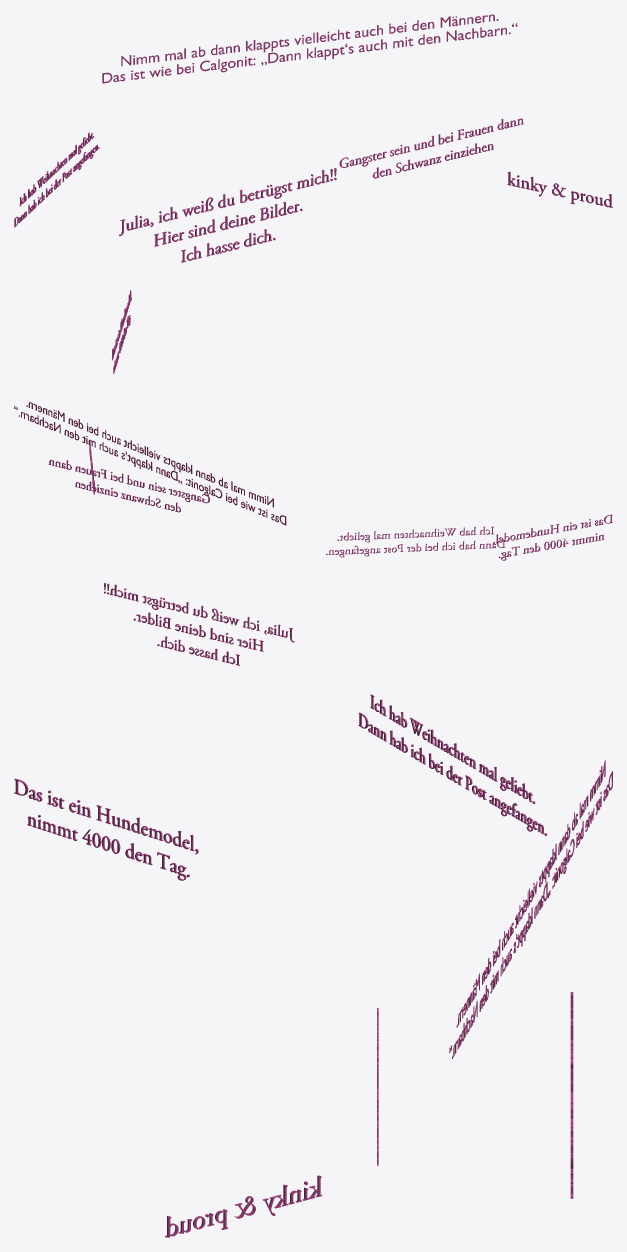
The model's file is Julia rosa.glb.
3 renders of one model, top to bottom at view 1: azimuth 30°, elevation 25°; view 2: azimuth 150°, elevation 25°; view 3: azimuth 270°, elevation 25°, orthographic. The views are drawn at different scales.
Visible parts, largest first — view 1: Text.005, Text, Text.004, Text.003, Text.001; view 2: Text.005, Text, Text.003, Text.004, Text.002; view 3: Text.005, Text.003, Text.002, Text.001, Text.
Part boxes in pixels (x1,y1,x2,y2): Text.005: (102, 14, 517, 83); Text: (119, 168, 336, 262); Text.004: (339, 118, 523, 178); Text.003: (14, 132, 99, 227); Text.001: (507, 171, 612, 207); Text.005: (14, 402, 286, 525); Text: (104, 583, 294, 665); Text.003: (326, 526, 505, 557); Text.004: (48, 460, 209, 512); Text.002: (493, 514, 612, 560); Text.005: (449, 760, 612, 1058); Text.003: (358, 694, 547, 835); Text.002: (14, 778, 198, 880); Text.001: (165, 1175, 322, 1237); Text: (570, 992, 573, 1198).
Bounding box in the file's own units: 564 × 207 × 341.
